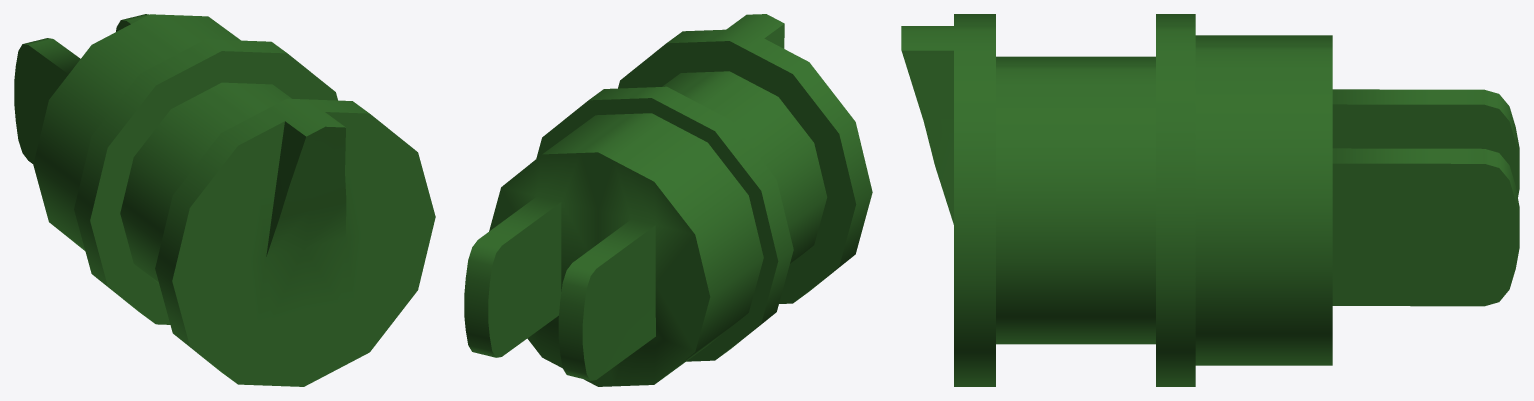
The model's file is FuseLowPolCOLLAPSED.fbx.
3 renders of one model, left to right at view 1: azimuth 30°, elevation 25°; view 2: azimuth 150°, elevation 25°; view 3: azimuth 270°, elevation 25°, orthographic. The views are drawn at different scales.
Parts seen in each view (by area): view 1: Fuse_l; view 2: Fuse_l; view 3: Fuse_l.
Part boxes in pixels (x1=…): Fuse_l: x1=14, y1=14, x2=435, y2=386; Fuse_l: x1=464, y1=14, x2=872, y2=386; Fuse_l: x1=901, y1=14, x2=1519, y2=386.
Size of the model in its own units: 0.0974 by 0.0974 by 0.1608.
